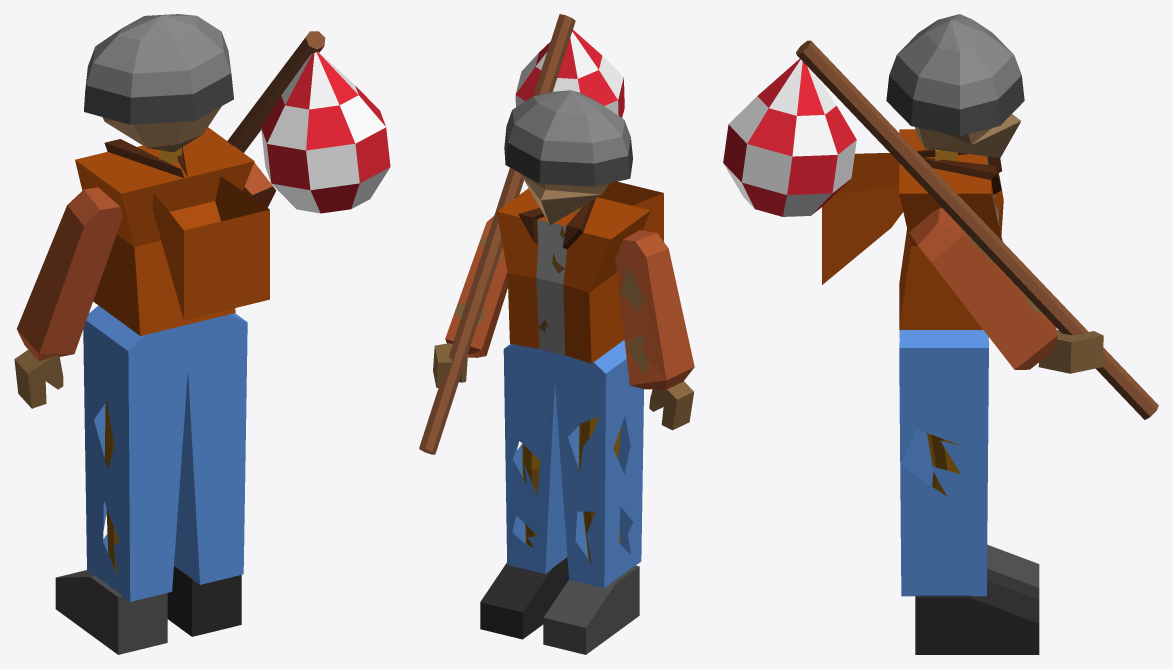
File: Homeless.glb
3 renders of one model, left to right at view 1: azimuth 30°, elevation 25°; view 2: azimuth 150°, elevation 25°; view 3: azimuth 270°, elevation 25°, orthographic. The views are drawn at different scales.
Visible parts, largest first — view 1: upper body, Chest, stike, hat, Arms, shose, Plane, Hand; view 2: upper body, Chest, Arms, shose, stike, hat, Hand, Plane; view 3: stike, upper body, Chest, hat, shose, Arms, Plane, Hand.
Part boxes in pixels (x1=…): upper body: x1=83, y1=305, x2=247, y2=601; Chest: x1=75, y1=127, x2=269, y2=335; stike: x1=227, y1=31, x2=390, y2=213; hat: x1=84, y1=14, x2=233, y2=124; Arms: x1=17, y1=162, x2=276, y2=360; shose: x1=55, y1=401, x2=241, y2=654; Plane: x1=102, y1=106, x2=221, y2=152; Hand: x1=14, y1=349, x2=63, y2=408; upper body: x1=503, y1=340, x2=643, y2=588; Chest: x1=496, y1=181, x2=663, y2=363; Arms: x1=445, y1=216, x2=694, y2=389; shose: x1=480, y1=416, x2=639, y2=654; stike: x1=419, y1=14, x2=624, y2=454; hat: x1=504, y1=90, x2=632, y2=186; Hand: x1=433, y1=343, x2=693, y2=430; Plane: x1=521, y1=174, x2=609, y2=225; stike: x1=723, y1=40, x2=1158, y2=419; upper body: x1=899, y1=330, x2=988, y2=596; Chest: x1=822, y1=129, x2=1003, y2=329; hat: x1=886, y1=14, x2=1024, y2=136; shose: x1=915, y1=433, x2=1039, y2=654; Arms: x1=909, y1=208, x2=1057, y2=369; Plane: x1=915, y1=114, x2=1020, y2=157; Hand: x1=1038, y1=330, x2=1103, y2=373.
Size of the model in its own units: 4.68 by 10.09 by 6.4.
